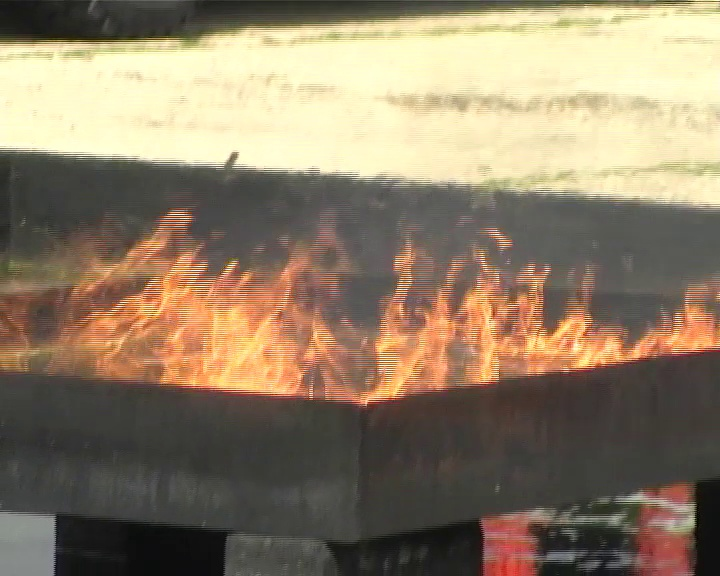fire: (64, 217, 720, 393)
